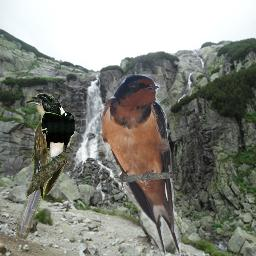Crow: (35, 93, 75, 166)
Cuckoo: (16, 96, 74, 240)
Swallow: (100, 74, 181, 256)
